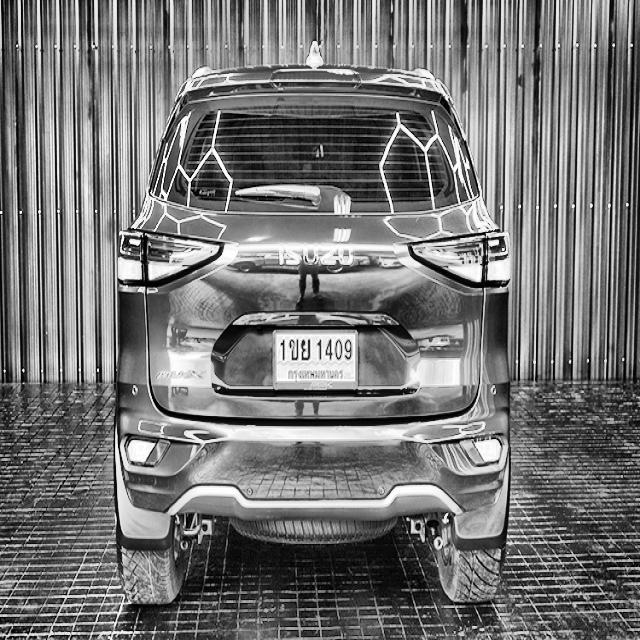license-plate: (271, 325, 358, 395)
